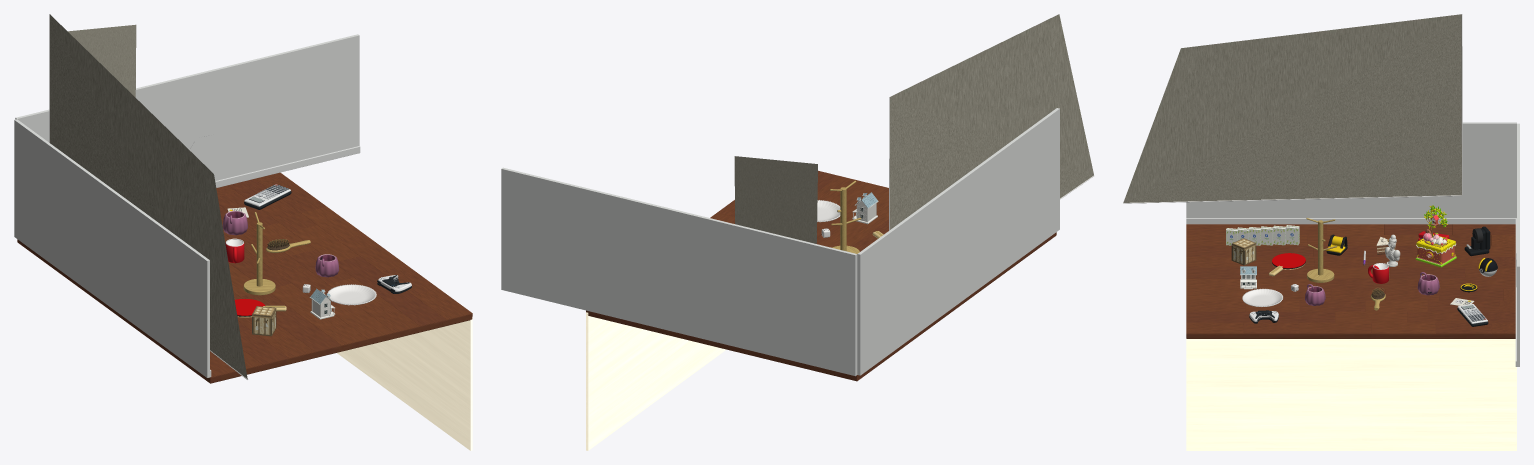
File: codex.glb
3 renders of one model, left to right at view 1: azimuth 30°, elevation 25°; view 2: azimuth 150°, elevation 25°; view 3: azimuth 270°, elevation 25°, orthographic. The views are drawn at different scales.
Visible parts, largest first — view 1: main rear wall, right rear wall, main wall wood panel, light oak cabinet below tabletop, table thick dark edge, right wallpaper inset, right baseboard, mahogany plank.023, mahogany plank.053, mahogany plank.046, mahogany plank.034, mahogany plank.048 (+22 smaller); view 2: right rear wall, main rear wall, main wall wood panel, light oak cabinet below tabletop, right wallpaper inset, table thick dark edge, mahogany plank.029, mahogany plank.040, mahogany plank.034; view 3: main wall wood panel, light oak cabinet below tabletop, main rear wall, table thick dark edge, main baseboard, mahogany plank.048, mahogany plank.053, mahogany plank.046, mahogany plank.054, mahogany plank.026, mahogany plank.032, right rear wall (+38 smaller).
Boxes of the visible parts, x1=… form: main rear wall: x1=14, y1=119, x2=209, y2=377; right rear wall: x1=15, y1=34, x2=359, y2=180; main wall wood panel: x1=50, y1=14, x2=247, y2=378; light oak cabinet below tabletop: x1=337, y1=317, x2=472, y2=450; table thick dark edge: x1=17, y1=180, x2=472, y2=383; right wallpaper inset: x1=68, y1=24, x2=136, y2=97; right baseboard: x1=215, y1=146, x2=360, y2=187; mahogany plank.023: x1=276, y1=314, x2=341, y2=351; mahogany plank.053: x1=339, y1=234, x2=406, y2=271; mahogany plank.046: x1=377, y1=291, x2=445, y2=326; mahogany plank.034: x1=332, y1=304, x2=393, y2=339; mahogany plank.048: x1=292, y1=225, x2=359, y2=261; right rear wall: x1=501, y1=167, x2=857, y2=376; main rear wall: x1=857, y1=108, x2=1059, y2=375; main wall wood panel: x1=890, y1=14, x2=1093, y2=229; light oak cabinet below tabletop: x1=586, y1=312, x2=726, y2=450; right wallpaper inset: x1=734, y1=156, x2=817, y2=243; table thick dark edge: x1=586, y1=177, x2=1056, y2=381; mahogany plank.029: x1=818, y1=219, x2=885, y2=247; mahogany plank.040: x1=817, y1=176, x2=866, y2=203; mahogany plank.034: x1=837, y1=182, x2=888, y2=221; main wall wood panel: x1=1123, y1=14, x2=1461, y2=202; light oak cabinet below tabletop: x1=1186, y1=339, x2=1516, y2=450; main rear wall: x1=1186, y1=122, x2=1516, y2=217; table thick dark edge: x1=1186, y1=224, x2=1515, y2=338; main baseboard: x1=1186, y1=218, x2=1516, y2=224; mahogany plank.048: x1=1335, y1=311, x2=1407, y2=322; mahogany plank.053: x1=1299, y1=322, x2=1371, y2=333; mahogany plank.046: x1=1186, y1=311, x2=1260, y2=322; mahogany plank.054: x1=1371, y1=322, x2=1435, y2=333; mahogany plank.026: x1=1390, y1=268, x2=1464, y2=278; mahogany plank.032: x1=1441, y1=279, x2=1515, y2=289; right rear wall: x1=1517, y1=123, x2=1519, y2=366.
Bounding box in the file's own units: 21.63 × 22.86 × 25.11.
Materials: 363 (230 with a texture image).
